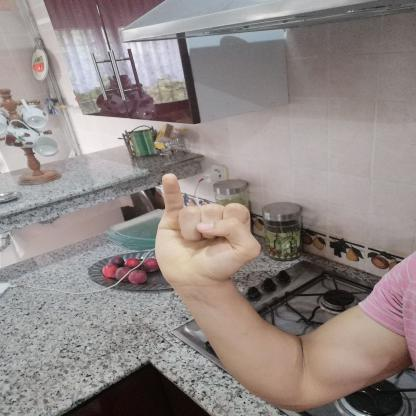MEEM: (140, 164, 271, 294)
